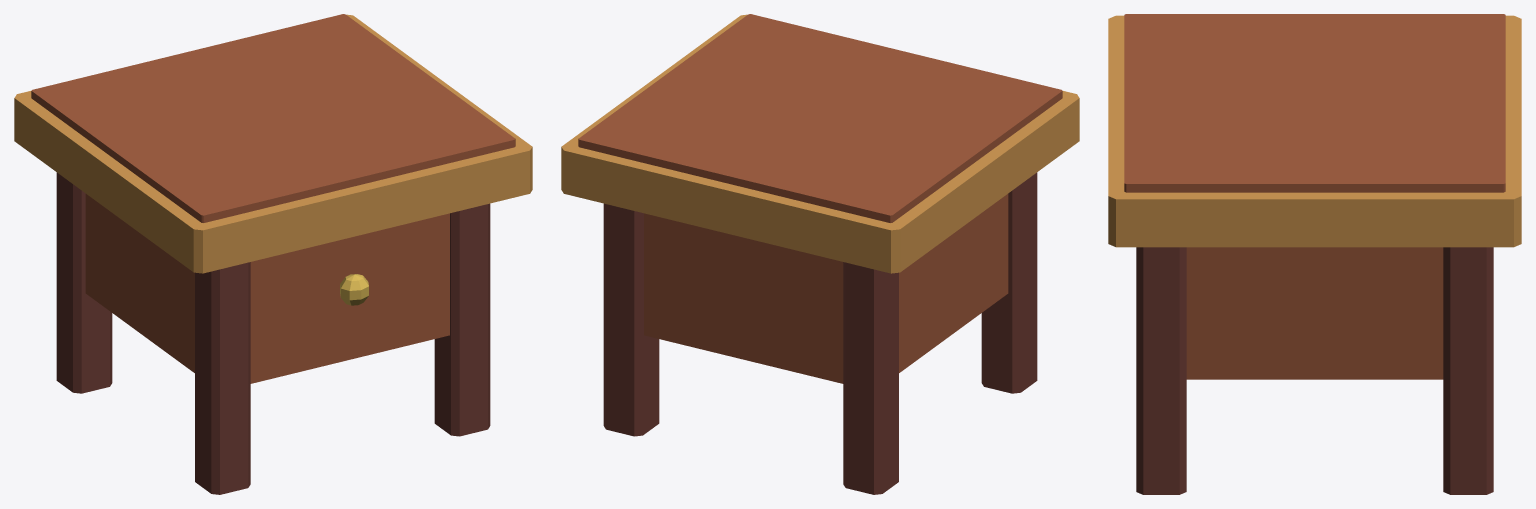
The model's file is Bedside.fbx.
3 views of the same model, side by side, from view 1: azimuth 30°, elevation 25°; view 2: azimuth 150°, elevation 25°; view 3: azimuth 270°, elevation 25° (orthographic). The views are drawn at different scales.
Parts seen in each view (by area): view 1: Bedside.005; view 2: Bedside.005; view 3: Bedside.005.
Boxes of the visible parts, box(x1,y1,x2,y2) form: Bedside.005: box(14, 14, 532, 494); Bedside.005: box(561, 14, 1079, 494); Bedside.005: box(1108, 14, 1521, 494).
Size of the model in its own units: 82 by 66.75 by 78.
